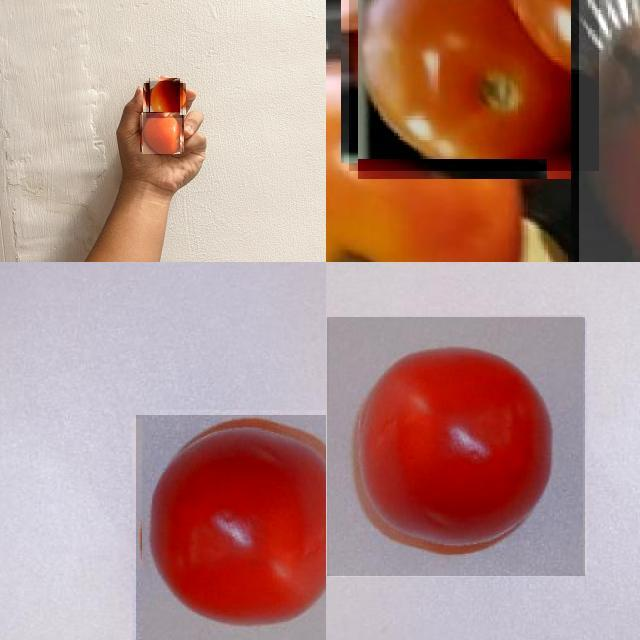Fresh Tomato: (327, 317, 585, 576), (136, 414, 326, 640), (348, 0, 599, 171), (326, 56, 526, 262), (142, 113, 182, 154), (146, 81, 183, 118)
